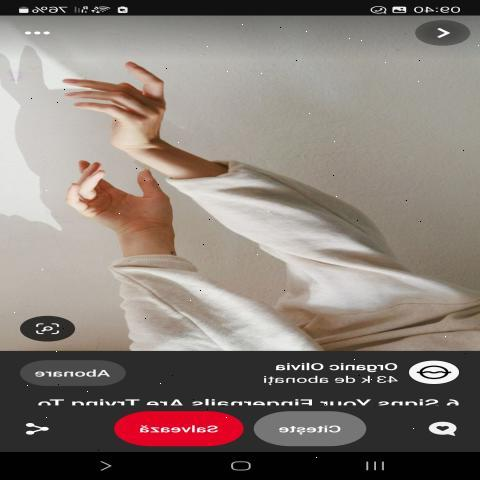Hands: (43, 152, 183, 270), (45, 46, 181, 162)
